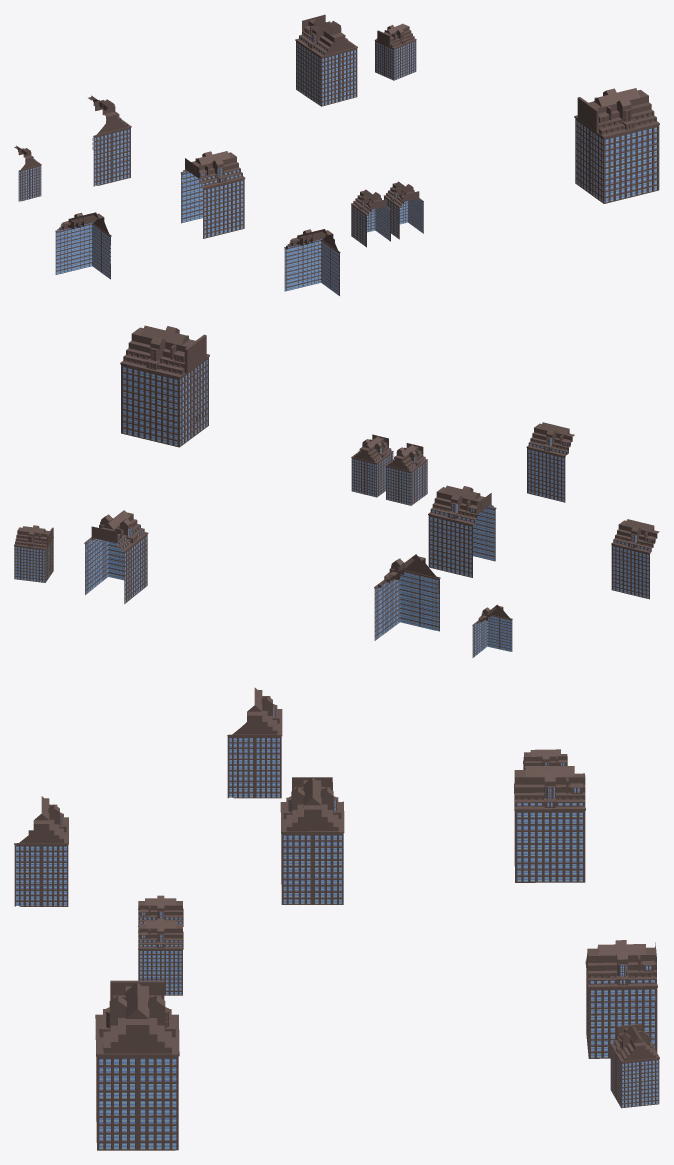
The model's file is New_York_track_building_city_03.dae.
3 views of the same model, one above another, from view 1: azimuth 30°, elevation 25°; view 2: azimuth 150°, elevation 25°; view 3: azimuth 270°, elevation 25° (orthographic). The views are drawn at different scales.
Visible parts, largest first — view 1: Building_city_03_01, Building_city_03_02, Building_city_03_10, Building_city_03_04, Building_city_03_03, Building_city_03_09, Building_city_03_05, Building_city_03_07, Building_city_03_08, Building_city_03_06; view 2: Building_city_03_01, Building_city_03_02, Building_city_03_10, Building_city_03_09, Building_city_03_04, Building_city_03_03, Building_city_03_07, Building_city_03_05, Building_city_03_08, Building_city_03_06; view 3: Building_city_03_01, Building_city_03_09, Building_city_03_02, Building_city_03_10, Building_city_03_03, Building_city_03_04, Building_city_03_05, Building_city_03_08, Building_city_03_07, Building_city_03_06.
Boxes of the visible parts, x1,y1,x2,y2 form: Building_city_03_01: (574,88,659,203); Building_city_03_02: (180,151,245,238); Building_city_03_10: (295,14,357,106); Building_city_03_04: (284,229,340,295); Building_city_03_03: (55,212,111,279); Building_city_03_09: (88,95,131,186); Building_city_03_05: (374,23,416,80); Building_city_03_07: (351,189,391,247); Building_city_03_08: (384,181,423,239); Building_city_03_06: (14,145,41,201); Building_city_03_01: (120,325,209,447); Building_city_03_02: (428,485,496,577); Building_city_03_10: (84,510,148,603); Building_city_03_09: (374,554,440,640); Building_city_03_04: (526,422,574,502); Building_city_03_03: (611,519,659,599); Building_city_03_07: (385,443,427,505); Building_city_03_05: (14,525,53,582); Building_city_03_08: (351,434,393,497); Building_city_03_06: (472,604,512,657); Building_city_03_01: (95,980,179,1150); Building_city_03_09: (514,766,585,882); Building_city_03_02: (280,777,344,904); Building_city_03_10: (585,940,657,1058); Building_city_03_03: (227,687,282,798); Building_city_03_04: (14,796,68,906); Building_city_03_05: (610,1023,659,1108); Building_city_03_08: (138,918,183,995); Building_city_03_07: (138,895,183,926); Building_city_03_06: (523,749,567,769).
Size of the model in its own units: 42.11 by 30.36 by 7.06.
2 materials, 2 textured.
